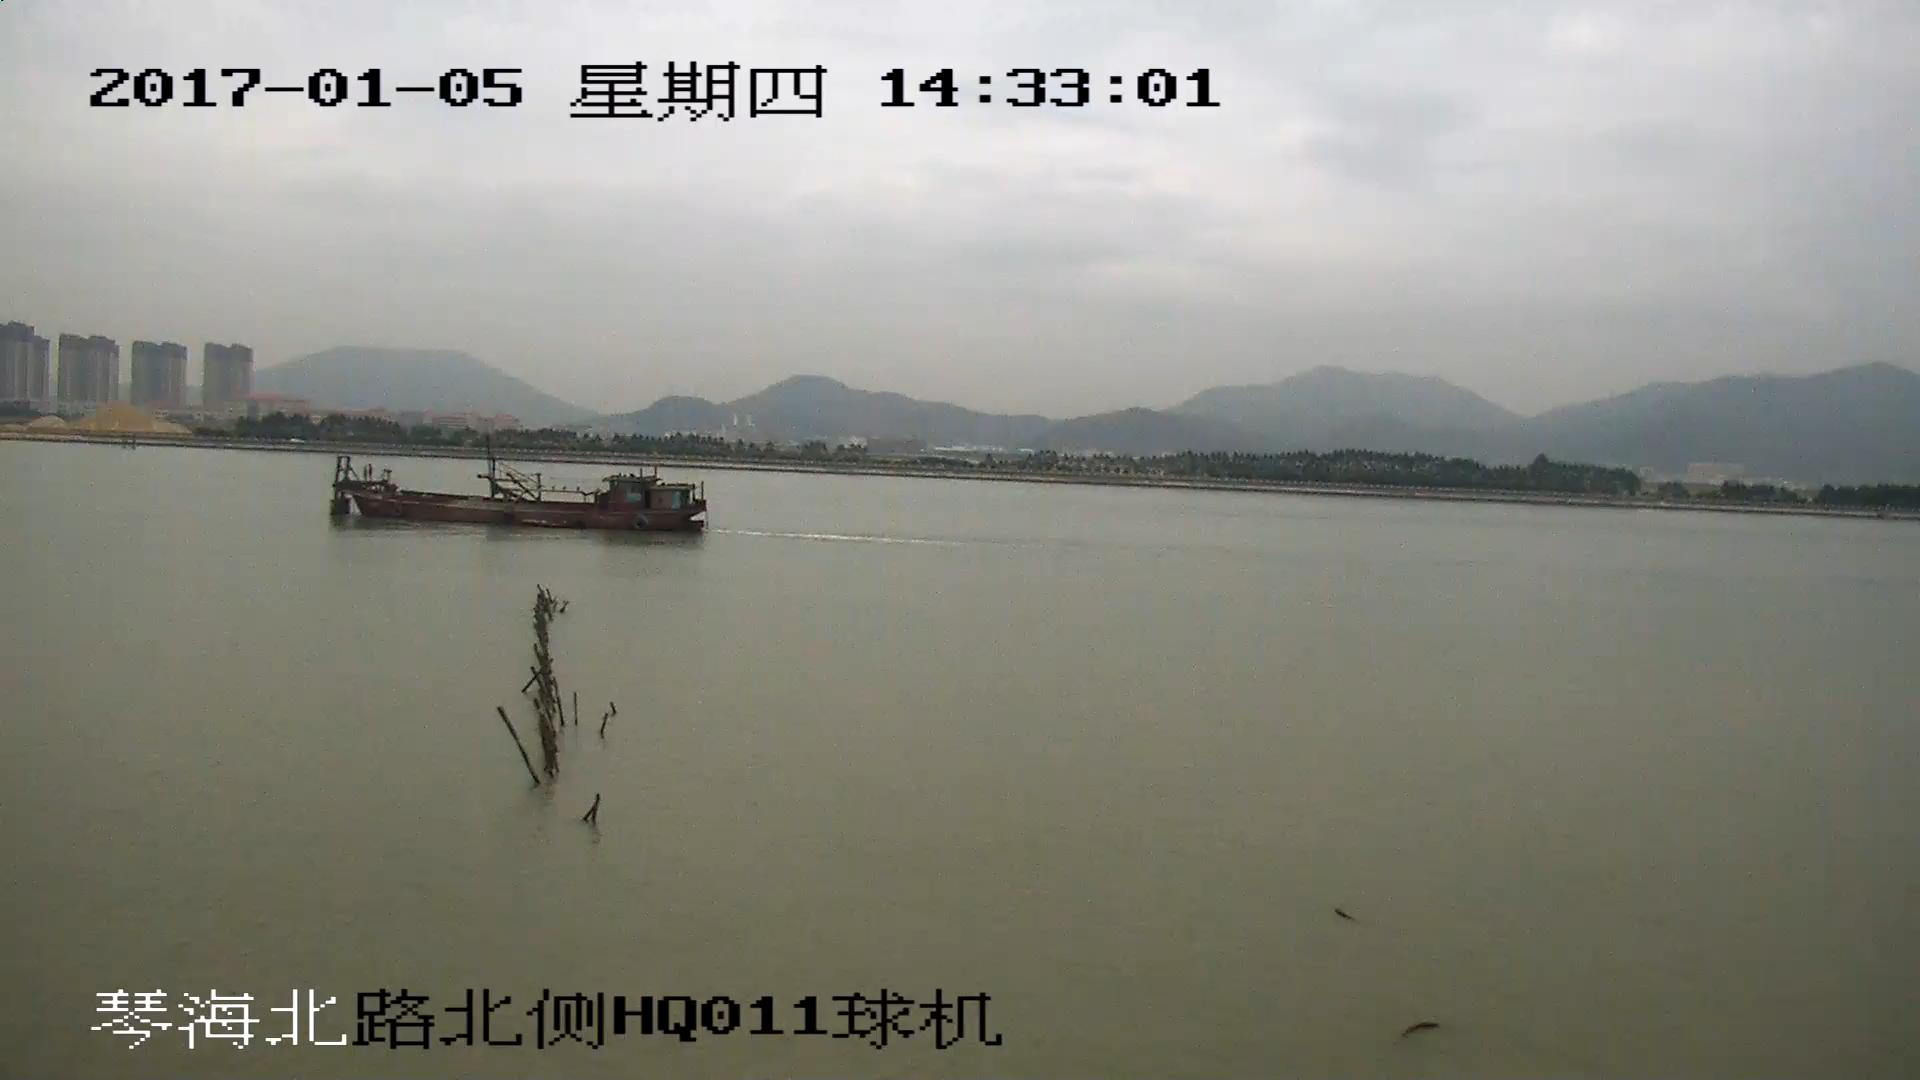fishing boat: (330, 439, 709, 534)
